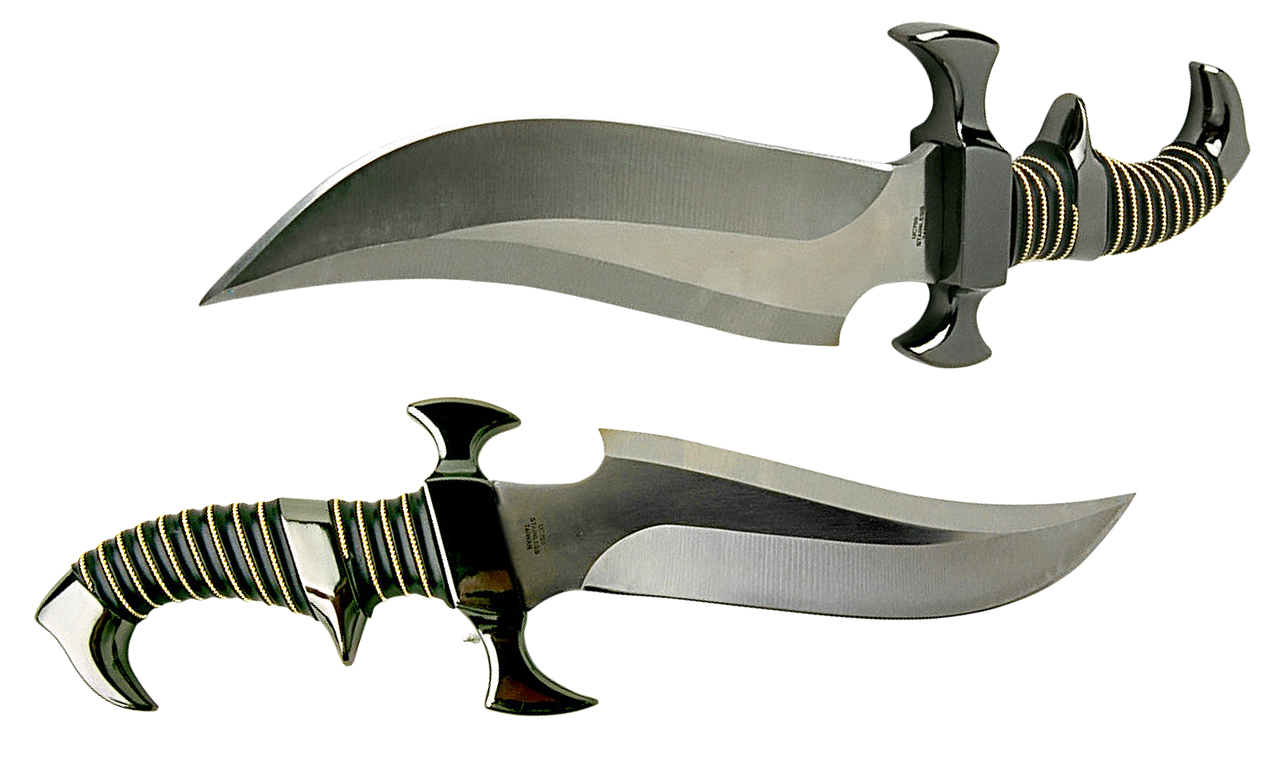knife: (26, 387, 1156, 723), (187, 18, 1259, 370)
